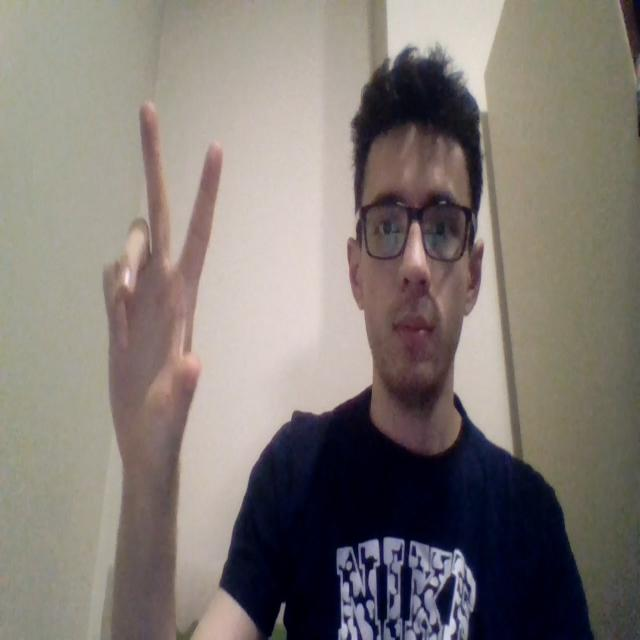no: (102, 99, 224, 479)
